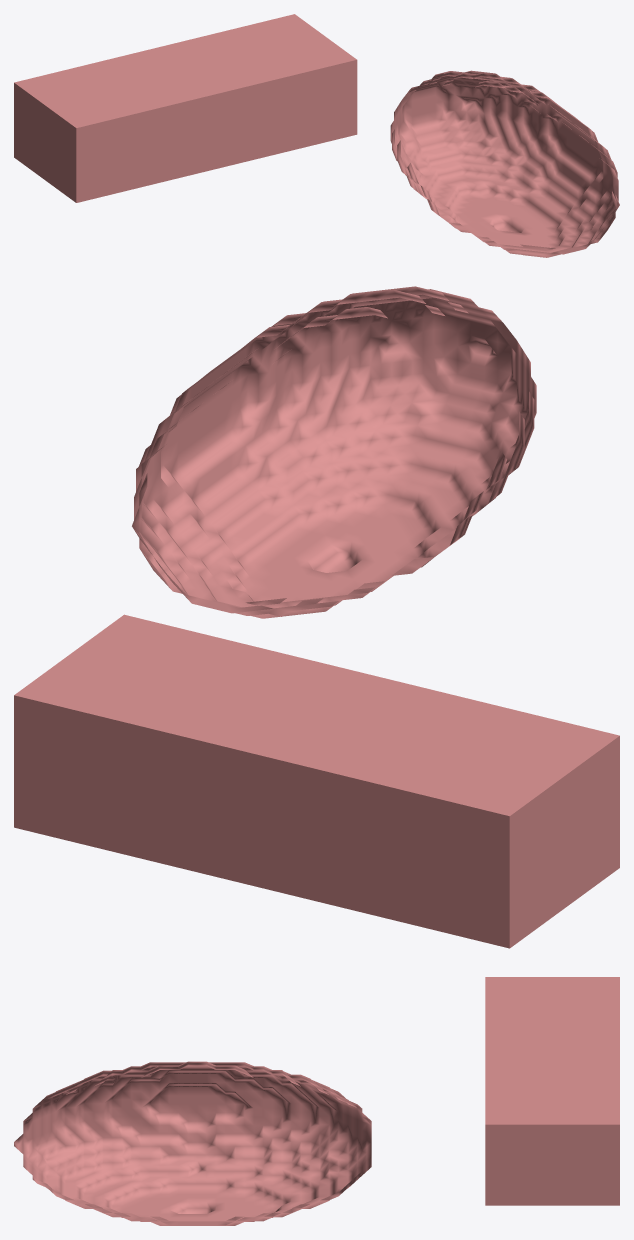
File: 239508_occ.glb
The picture shows the model from 3 angles, top to bottom: view 1: azimuth 30°, elevation 25°; view 2: azimuth 150°, elevation 25°; view 3: azimuth 270°, elevation 25°; orthographic projection. The views are drawn at different scales.
Visible parts, largest first — view 1: world; view 2: world; view 3: world.
Part boxes in pixels (x1,y1,x2,y2): world: (14,14,619,257); world: (14,286,619,948); world: (14,977,619,1225).
Size of the model in its own units: 4.9 by 1.7 by 6.44.
